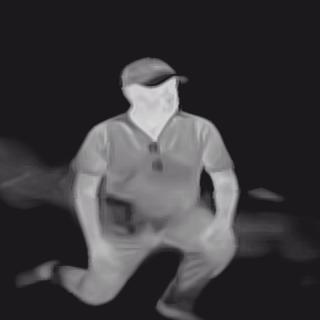Gun: (105, 195, 134, 237)
